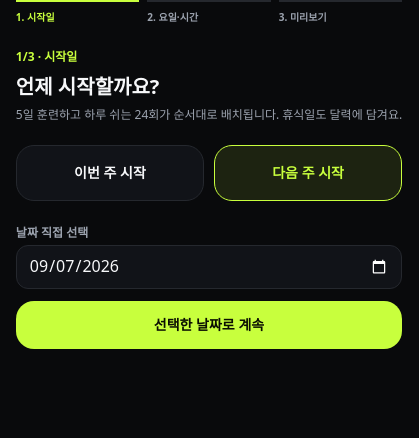
사다리 일정 — 난이도 대신 숫자를 받는다 › 난이도 라디오를 그리지 않는다
Step 1. Click the button "다음 주 시작" → [308, 172], box [214,144,402,200]
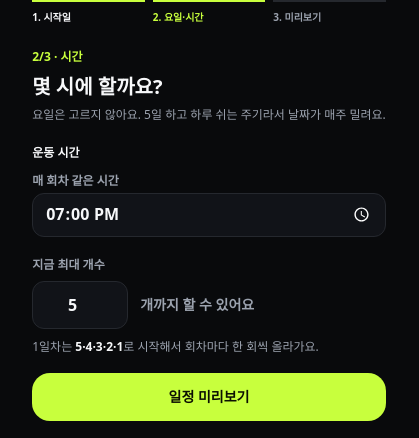
Expected: the number field with id "ladder-max-reps" is shown, [32,280,128,328]
